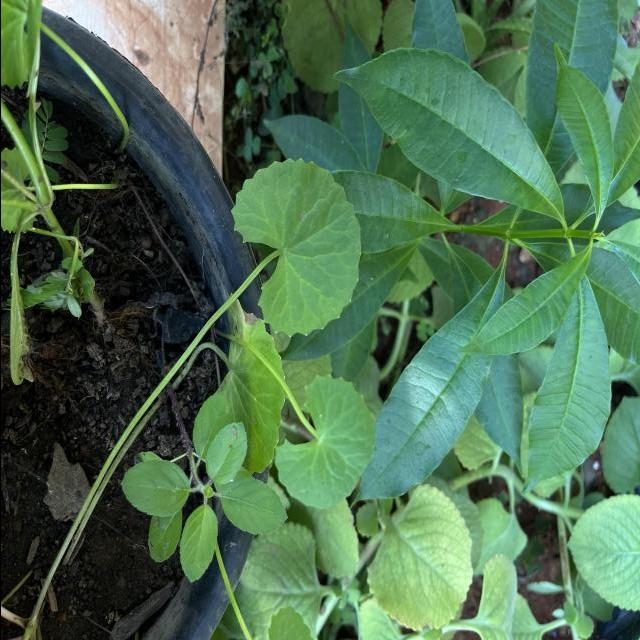Centella asiatica: (227, 153, 365, 342)
